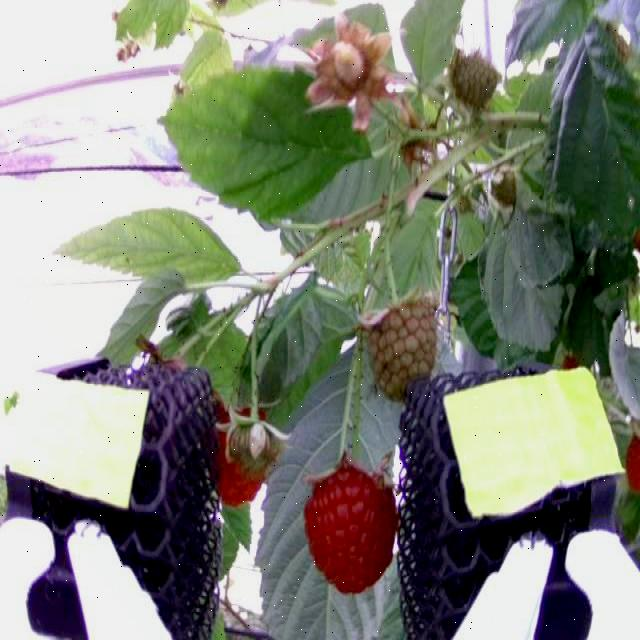Riped berries: (298, 452, 400, 591), (210, 393, 278, 505)
